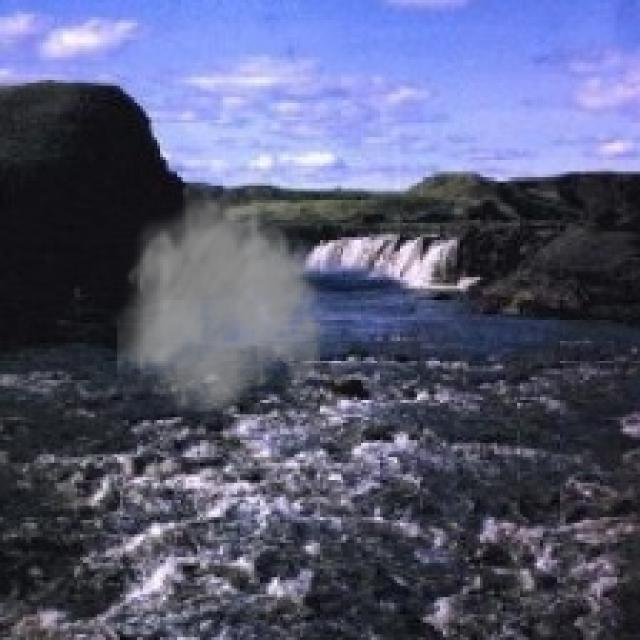smoke: (117, 174, 340, 426)
